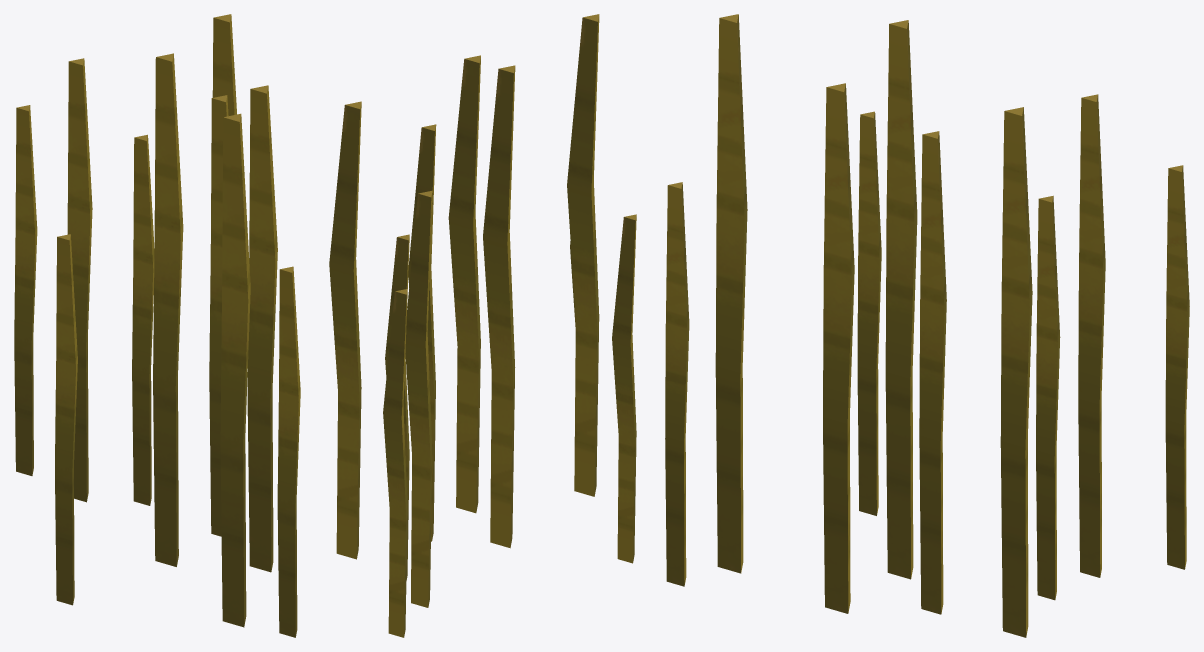
The model's file is desert-grass.fbx.
The picture shows the model from 3 angles, left to right: view 1: azimuth 30°, elevation 25°; view 2: azimuth 150°, elevation 25°; view 3: azimuth 270°, elevation 25°; orthographic projection. The views are drawn at different scales.
Visible parts, largest first — view 1: polySurface85; view 2: polySurface85; view 3: polySurface85.
Boxes of the visible parts, x1,y1,x2,y2 form: polySurface85: (14,14,300,637); polySurface85: (329,14,636,637); polySurface85: (665,14,1189,637).
Bounding box in the file's own units: 1.97 × 3.71 × 3.23.
1 material, 1 textured.
